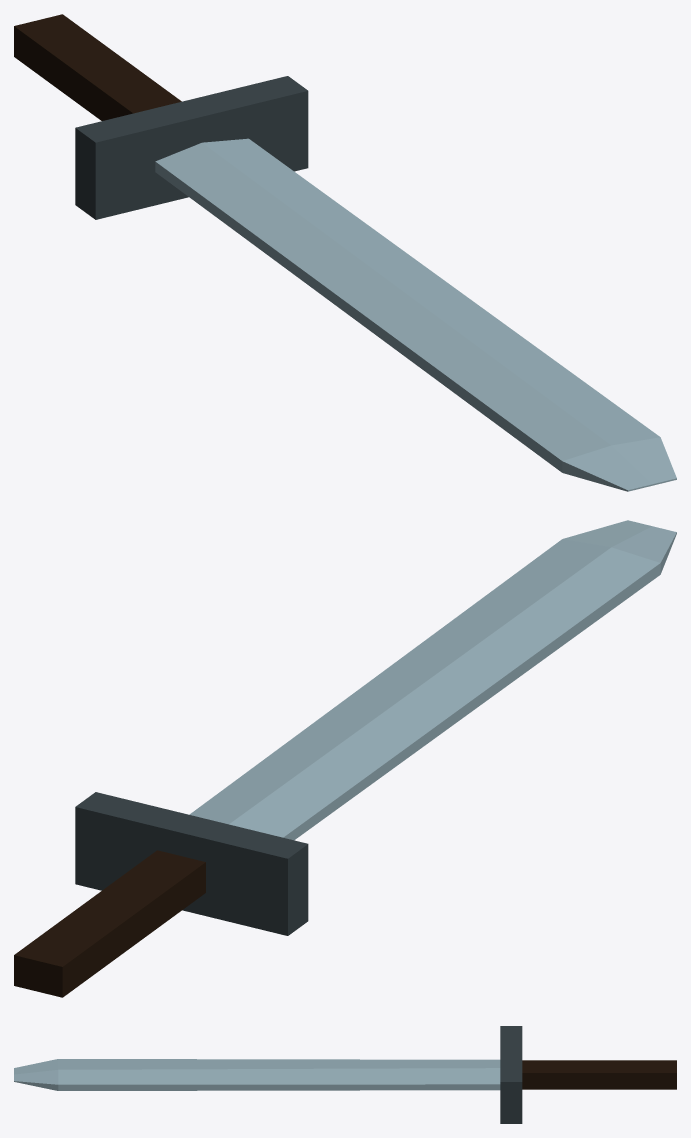
Rendered from sword.fbx.
3 renders of one model, top to bottom at view 1: azimuth 30°, elevation 25°; view 2: azimuth 150°, elevation 25°; view 3: azimuth 270°, elevation 25°, orthographic. The views are drawn at different scales.
Parts seen in each view (by area): view 1: sword_Cube.001; view 2: sword_Cube.001; view 3: sword_Cube.001.
Part boxes in pixels (<box>): sword_Cube.001: <box>14,14,676,491</box>; sword_Cube.001: <box>14,520,676,997</box>; sword_Cube.001: <box>14,1026,676,1123</box>.
Bounding box in the file's own units: 60 × 20.84 × 300.
1 material, 1 textured.
